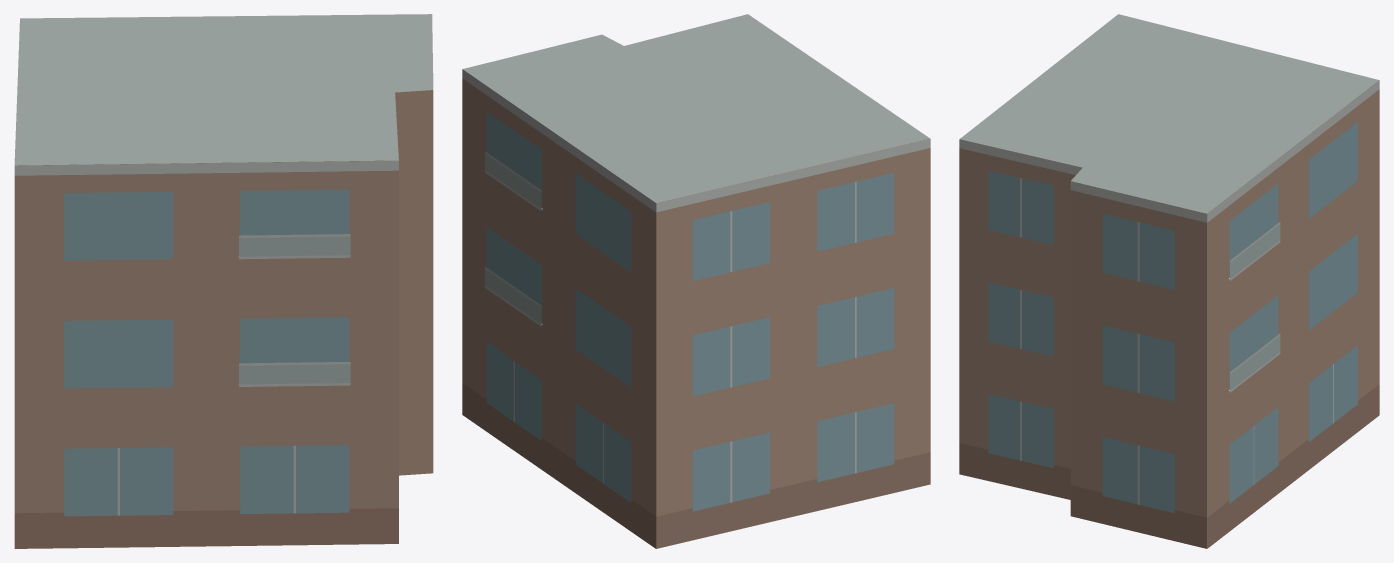
The model's file is survey-upis-32599327.glb.
3 renders of one model, left to right at view 1: azimuth 30°, elevation 25°; view 2: azimuth 150°, elevation 25°; view 3: azimuth 270°, elevation 25°, orthographic. The views are drawn at different scales.
Visible parts, largest first — view 1: survey-upis-32599327.tmp; view 2: survey-upis-32599327.tmp; view 3: survey-upis-32599327.tmp.
Boxes of the visible parts, box(x1,y1,x2,y2) form: survey-upis-32599327.tmp: box(14, 14, 433, 548); survey-upis-32599327.tmp: box(462, 14, 930, 548); survey-upis-32599327.tmp: box(959, 14, 1379, 548).
Bounding box in the file's own units: 11.65 × 9.1 × 10.35.
